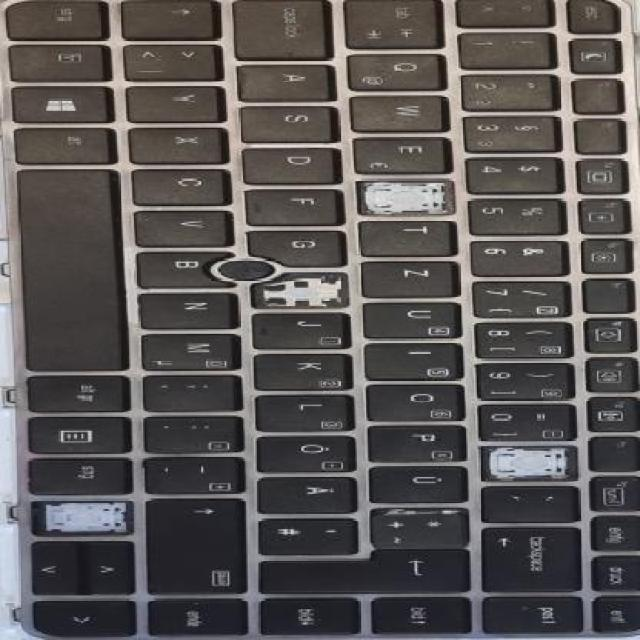Keyboard problems: (254, 274, 348, 308), (480, 446, 577, 478), (358, 182, 452, 214), (38, 502, 128, 532)
